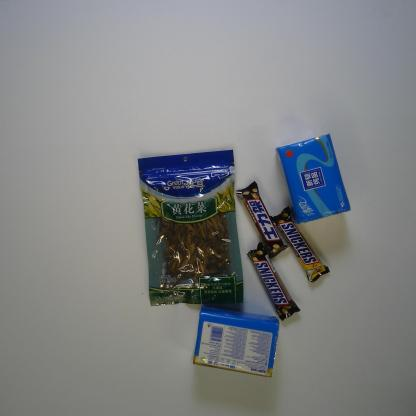Chocolate: (267, 204, 331, 284), (244, 240, 302, 322), (234, 180, 289, 261)
Dried Food: (136, 148, 244, 310)
Tissue: (275, 132, 351, 225), (191, 306, 280, 380)
